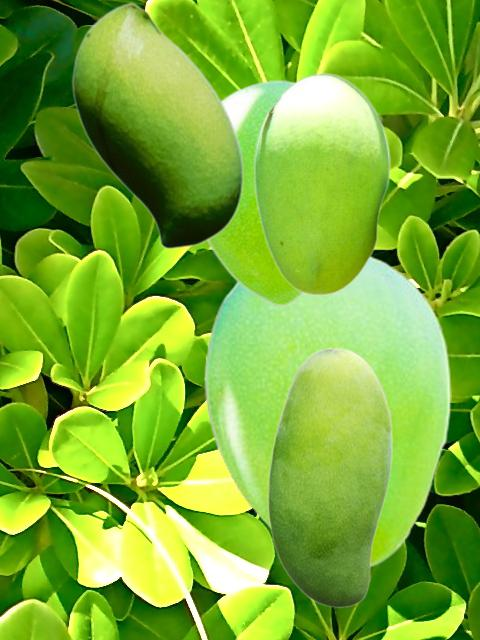green_mango: (203, 253, 450, 568), (71, 1, 242, 248), (267, 347, 392, 607), (253, 72, 389, 294), (205, 79, 303, 306)
